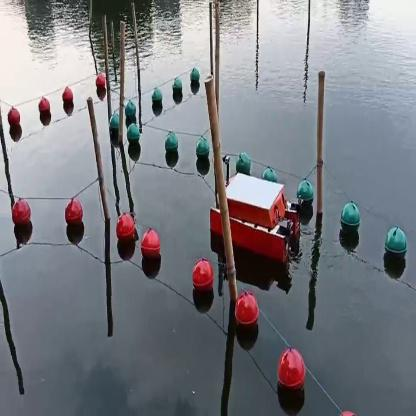green_buoy: (385, 225, 405, 268), (340, 199, 360, 240), (299, 177, 315, 210), (196, 138, 210, 163), (236, 152, 251, 174), (165, 132, 177, 159), (264, 164, 281, 182), (126, 98, 137, 122), (129, 124, 140, 145), (111, 113, 118, 139), (191, 68, 199, 87), (174, 80, 181, 101), (154, 91, 162, 109)
red_buoy: (282, 355, 302, 389), (142, 234, 160, 270), (13, 198, 30, 234), (191, 267, 211, 295), (66, 202, 84, 233), (238, 300, 252, 334), (117, 218, 132, 245), (40, 96, 52, 122), (94, 70, 106, 94), (63, 86, 74, 112), (7, 112, 21, 132)
